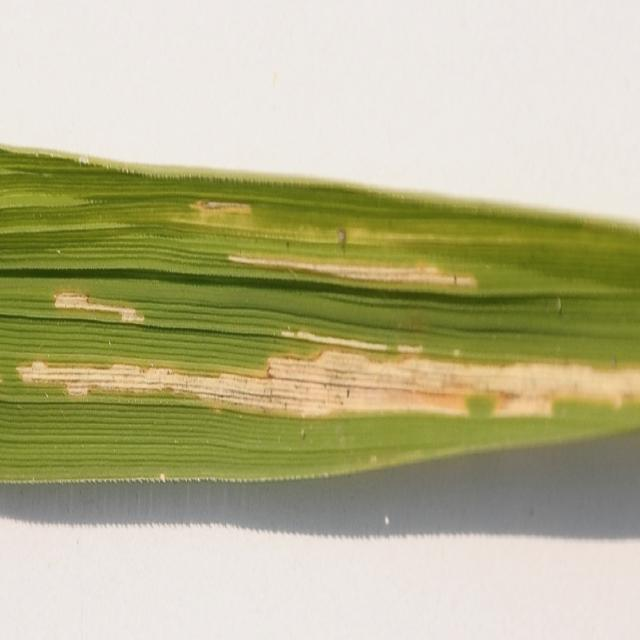leaf blight: (10, 312, 640, 433), (142, 193, 490, 310), (41, 270, 150, 336)
